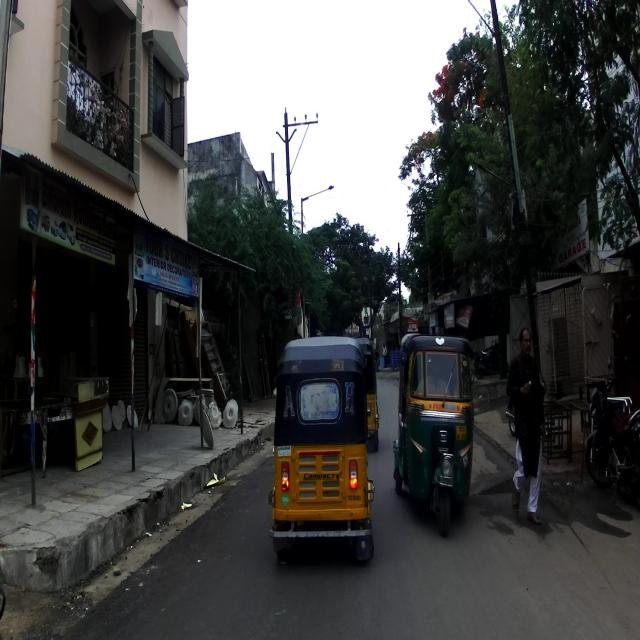autorickshaw: (268, 336, 374, 566), (392, 332, 480, 537)
motorcycle: (584, 355, 640, 504)
